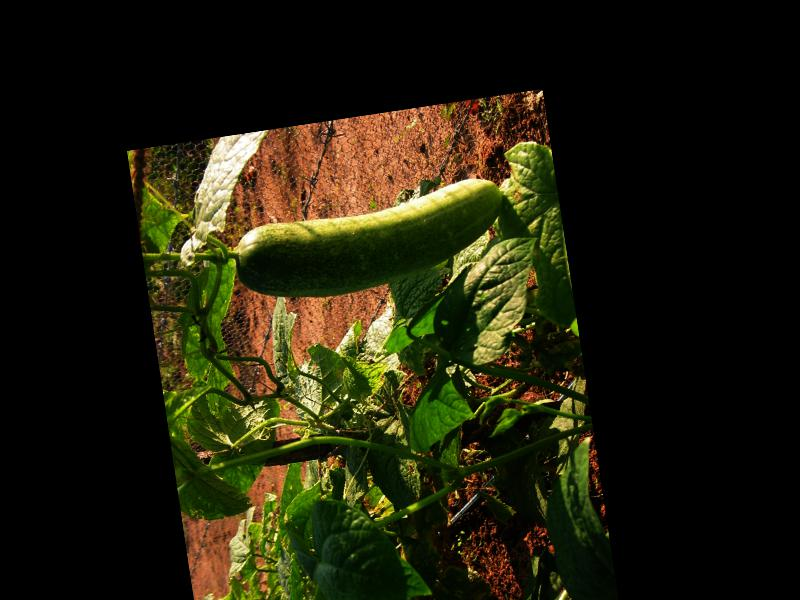Cucumber: (229, 175, 512, 308)
